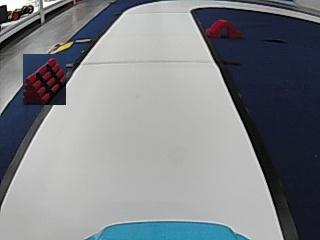bridge: (206, 18, 240, 38)
